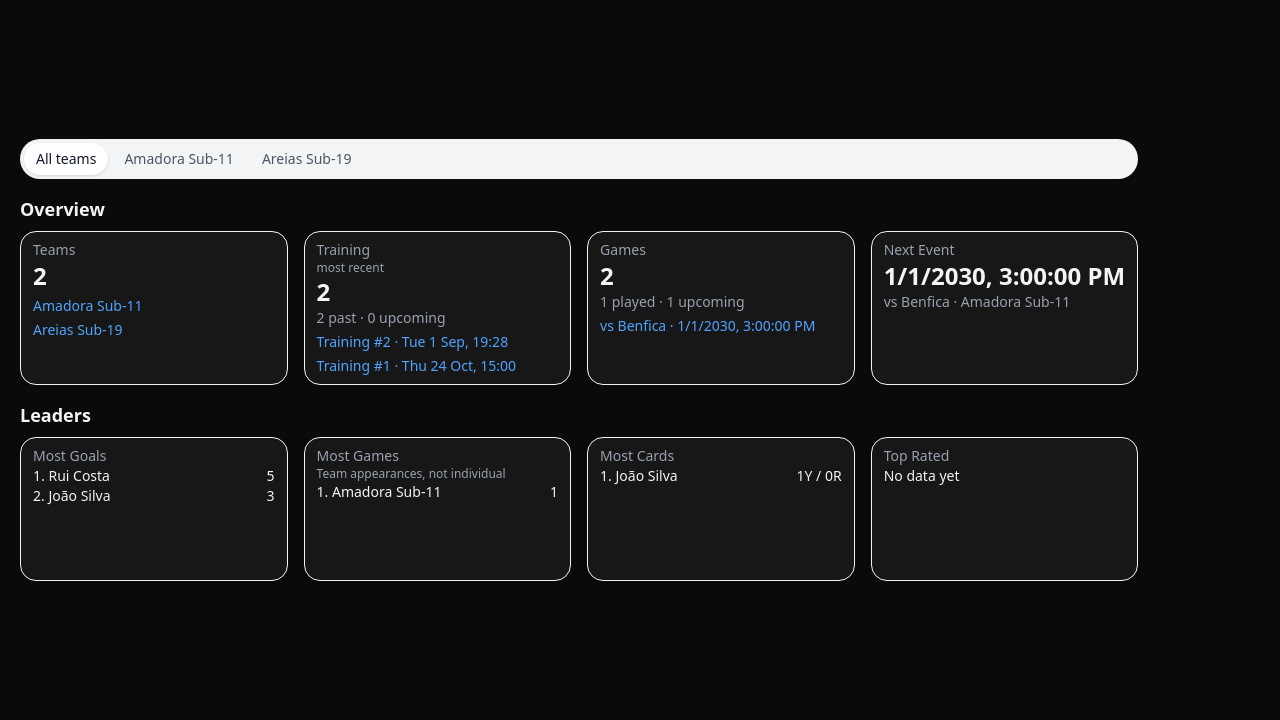
Test: clicking a game row navigates to /games?game=<id> with the game popup open (AC DTILE-03.3)
expect the text "Teams" is shown: met, box [33,240,75,259]
What coordinates should you click on to do the following:
click the link "vs Benfica · 1/1/2030, 3:00:00 PM"
I would click on:
 (721, 326)
Its box is [600,316,842,336].
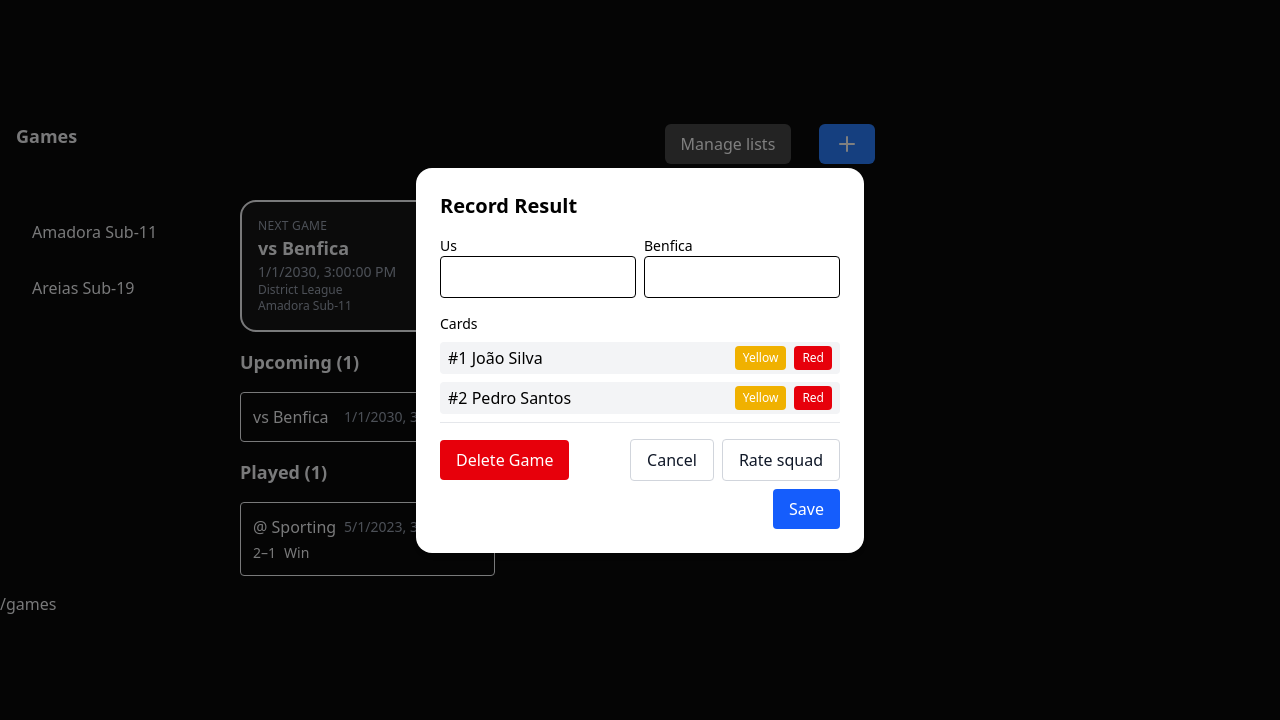
expect the dialog is shown: met, box [416,168,864,552]
expect the text with test id "location" reads "/games": met, box [0,593,56,615]
